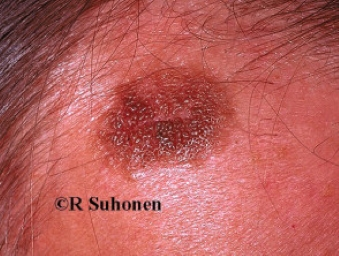seborrheic keratosis: (78, 62, 246, 179)
